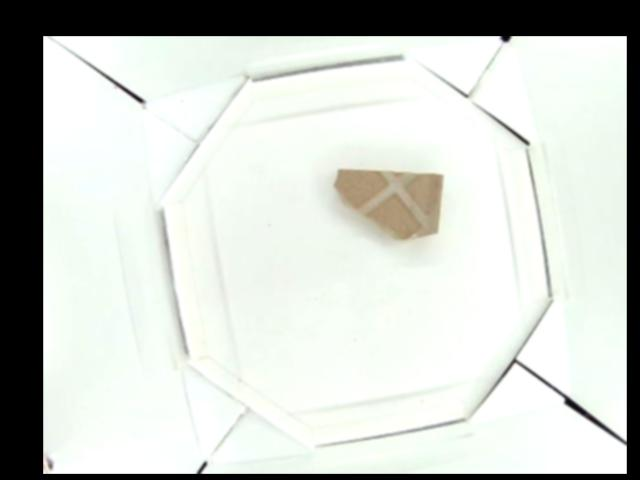China: (335, 172, 444, 238)
